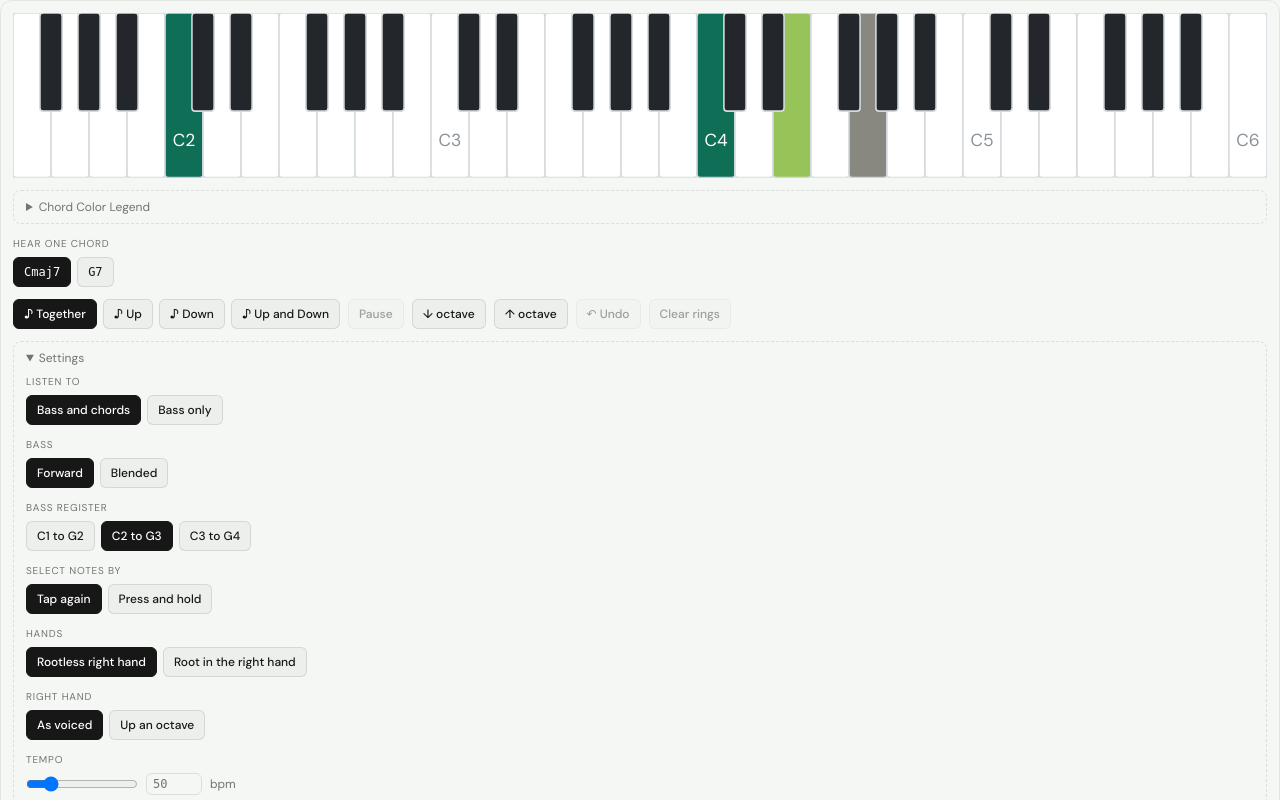
Pause stops where it is and Resume picks up from there › starts over on a play chip even after a pause
Click the button "♪ Together": (55, 314) [13,299,97,329]
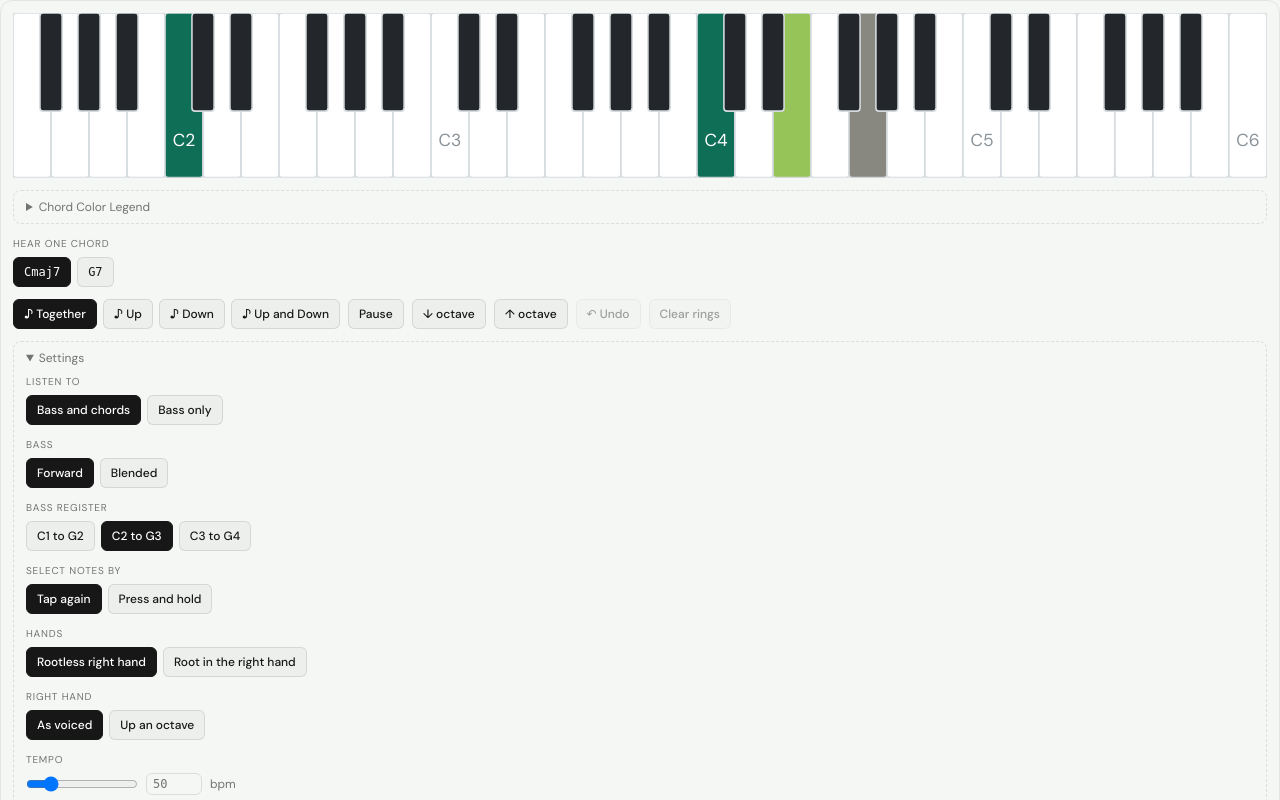
Click the button "Pause": (376, 314) [348,299,404,329]
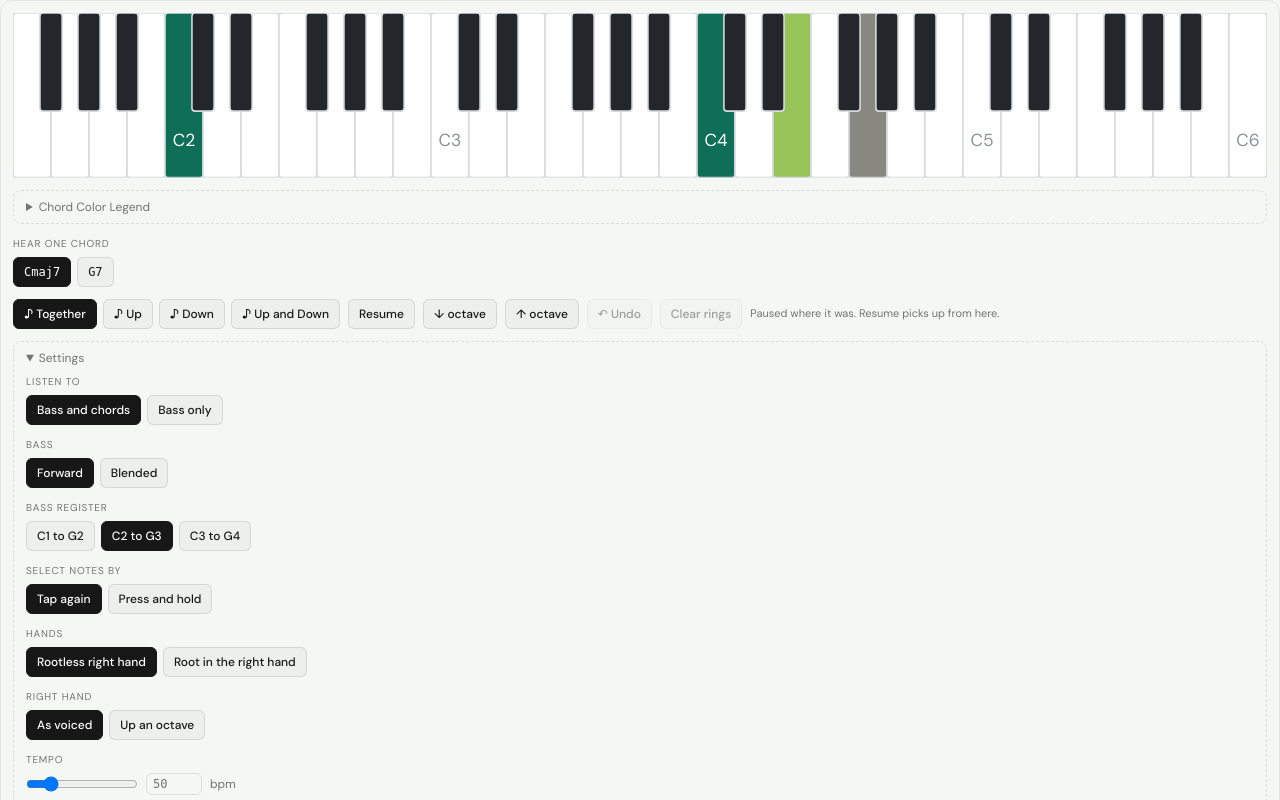
Click the button "♪ Together": (55, 314) [13,299,97,329]
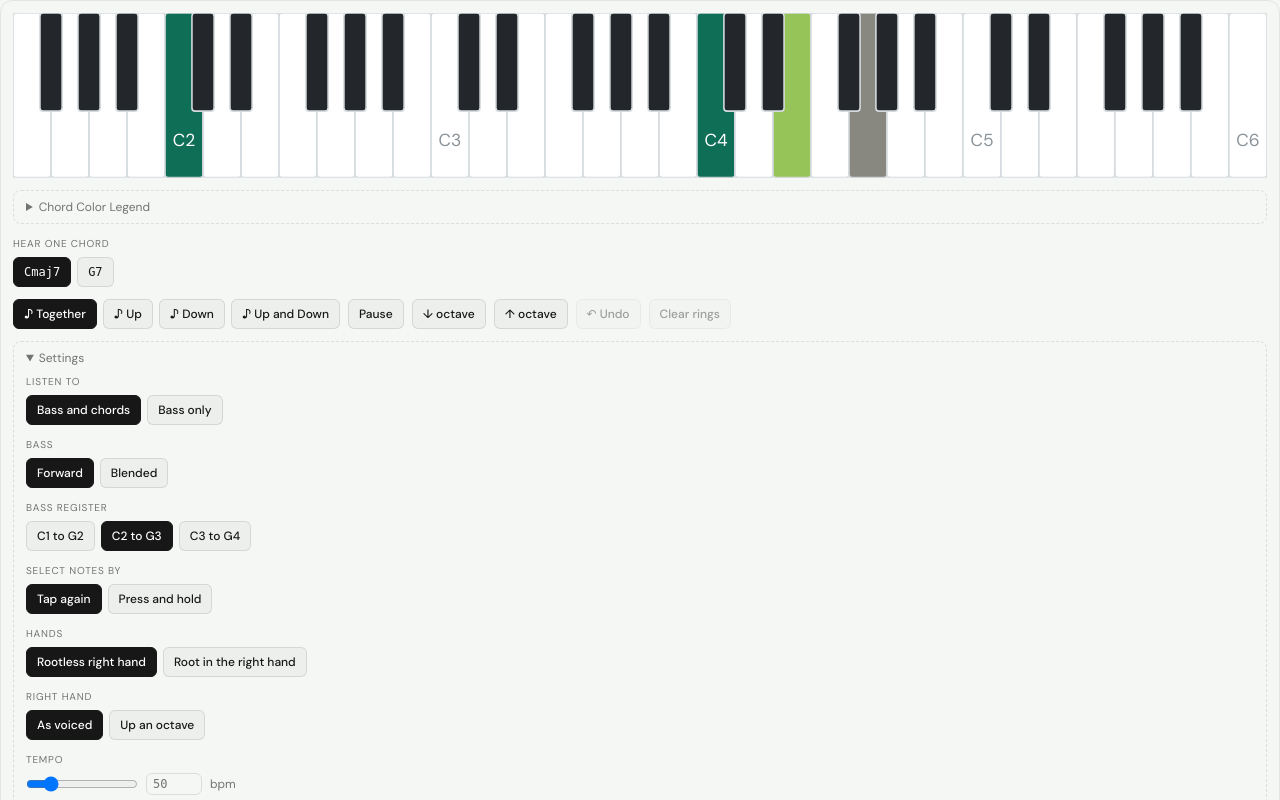
expect the button "Pause" is shown: met, box [348,299,404,329]
